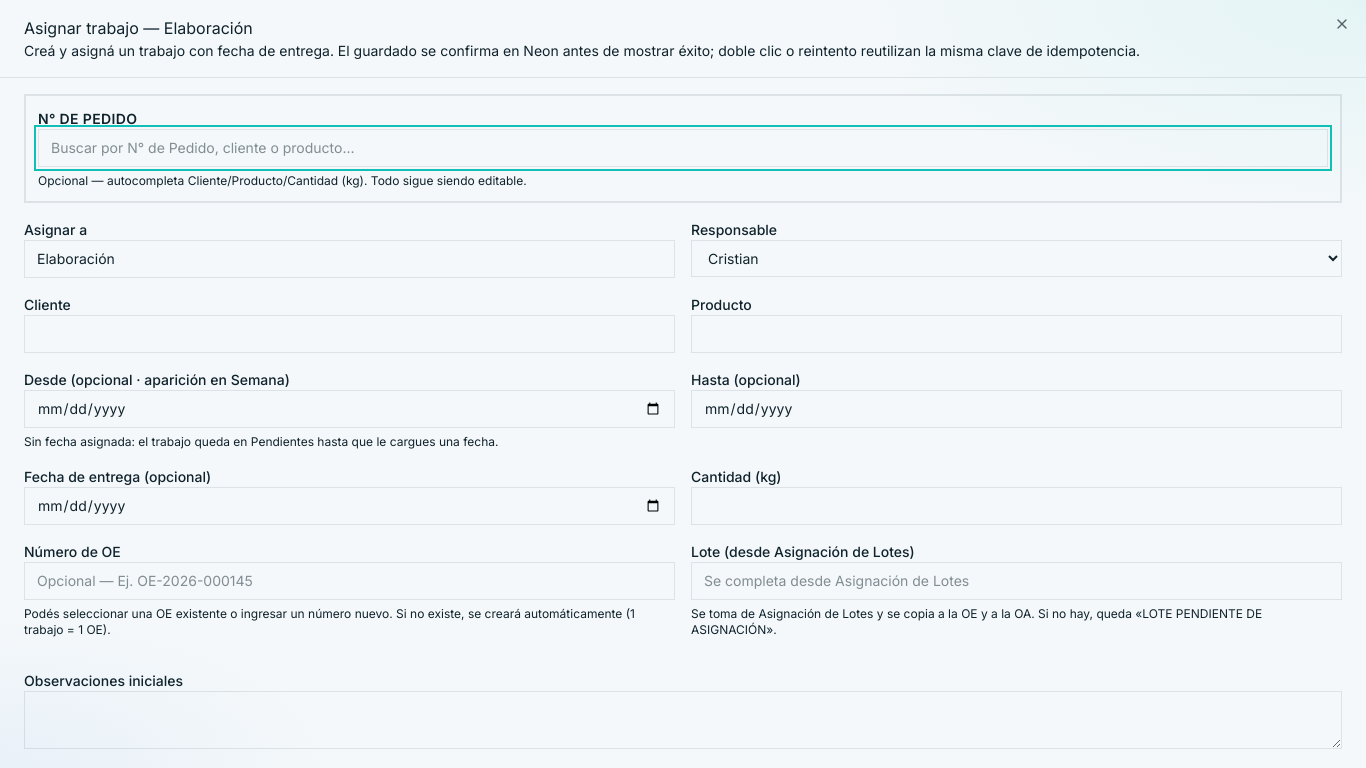
Test: AssignWorkDialog — sector preseleccionado y fijo por sector › 4) N° de Pedido: autocomplete sigue funcionando y autocompleta Cliente/Producto
Type "4521" into the field with test id "assign-pedido-search" at (683, 148), box x1=38 y1=129 x2=1328 y2=167
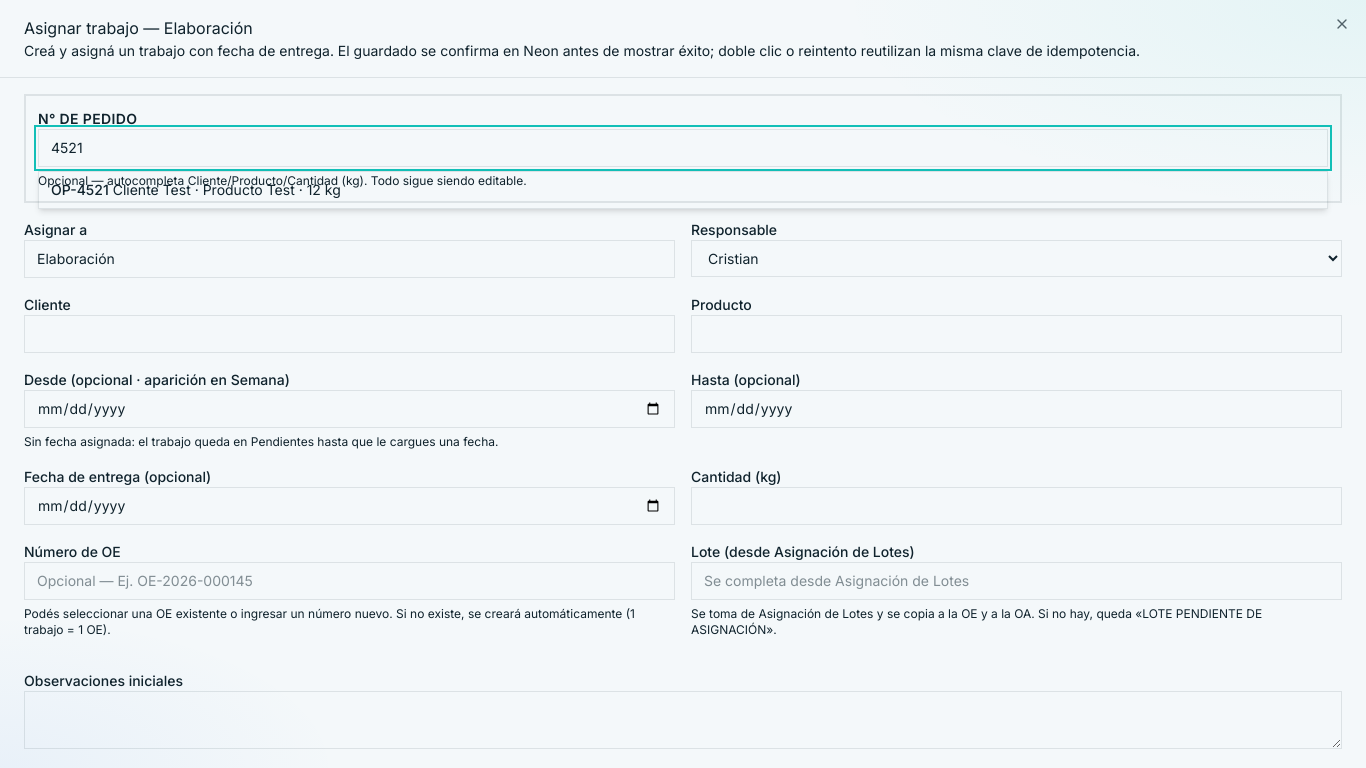
expect the list with test id "assign-pedido-results" is shown: met, box x1=38 y1=171 x2=1328 y2=209
Click the text "OP-4521" at (80, 190), box x1=51 y1=181 x2=109 y2=198
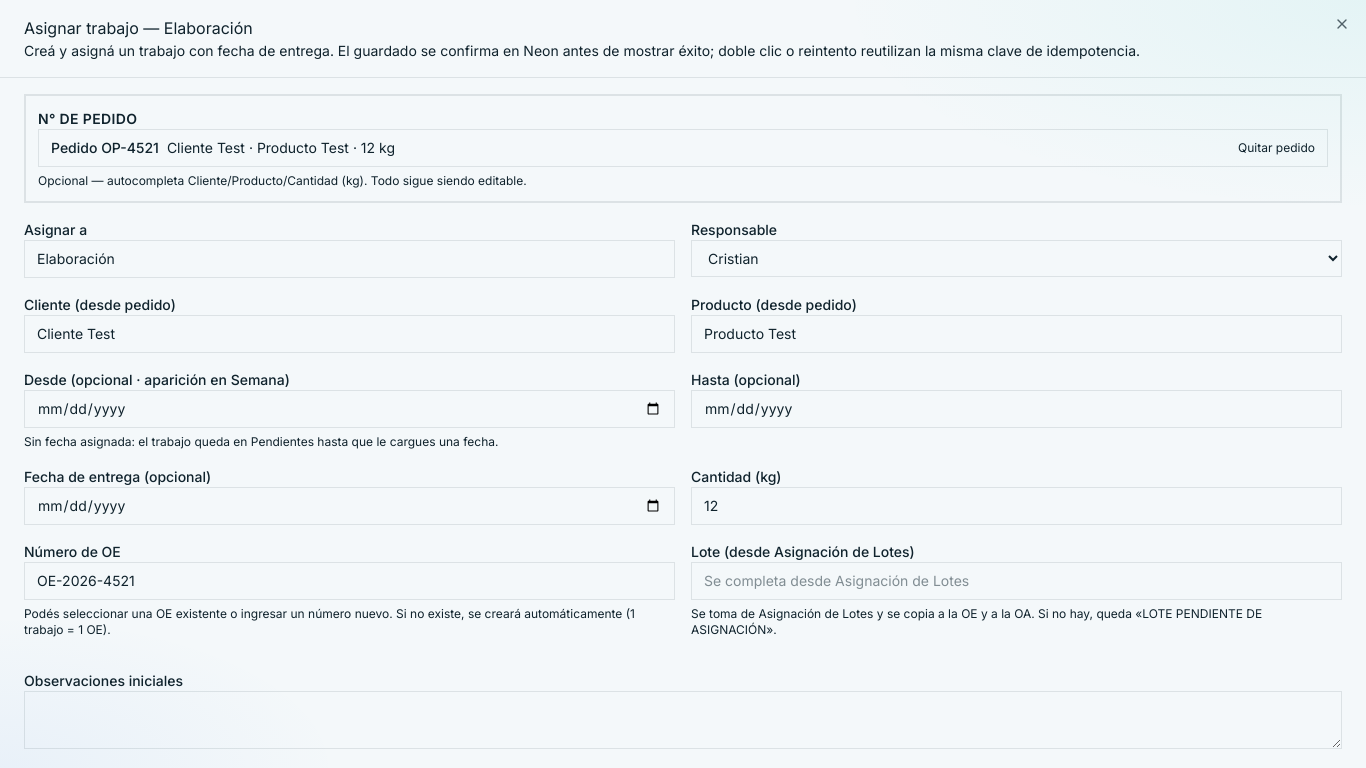
expect the field labelled "Cliente (desde pedido)" holds "Cliente Test": met, box x1=24 y1=315 x2=675 y2=353
expect the field labelled "Producto (desde pedido)" holds "Producto Test": met, box x1=691 y1=315 x2=1342 y2=353
